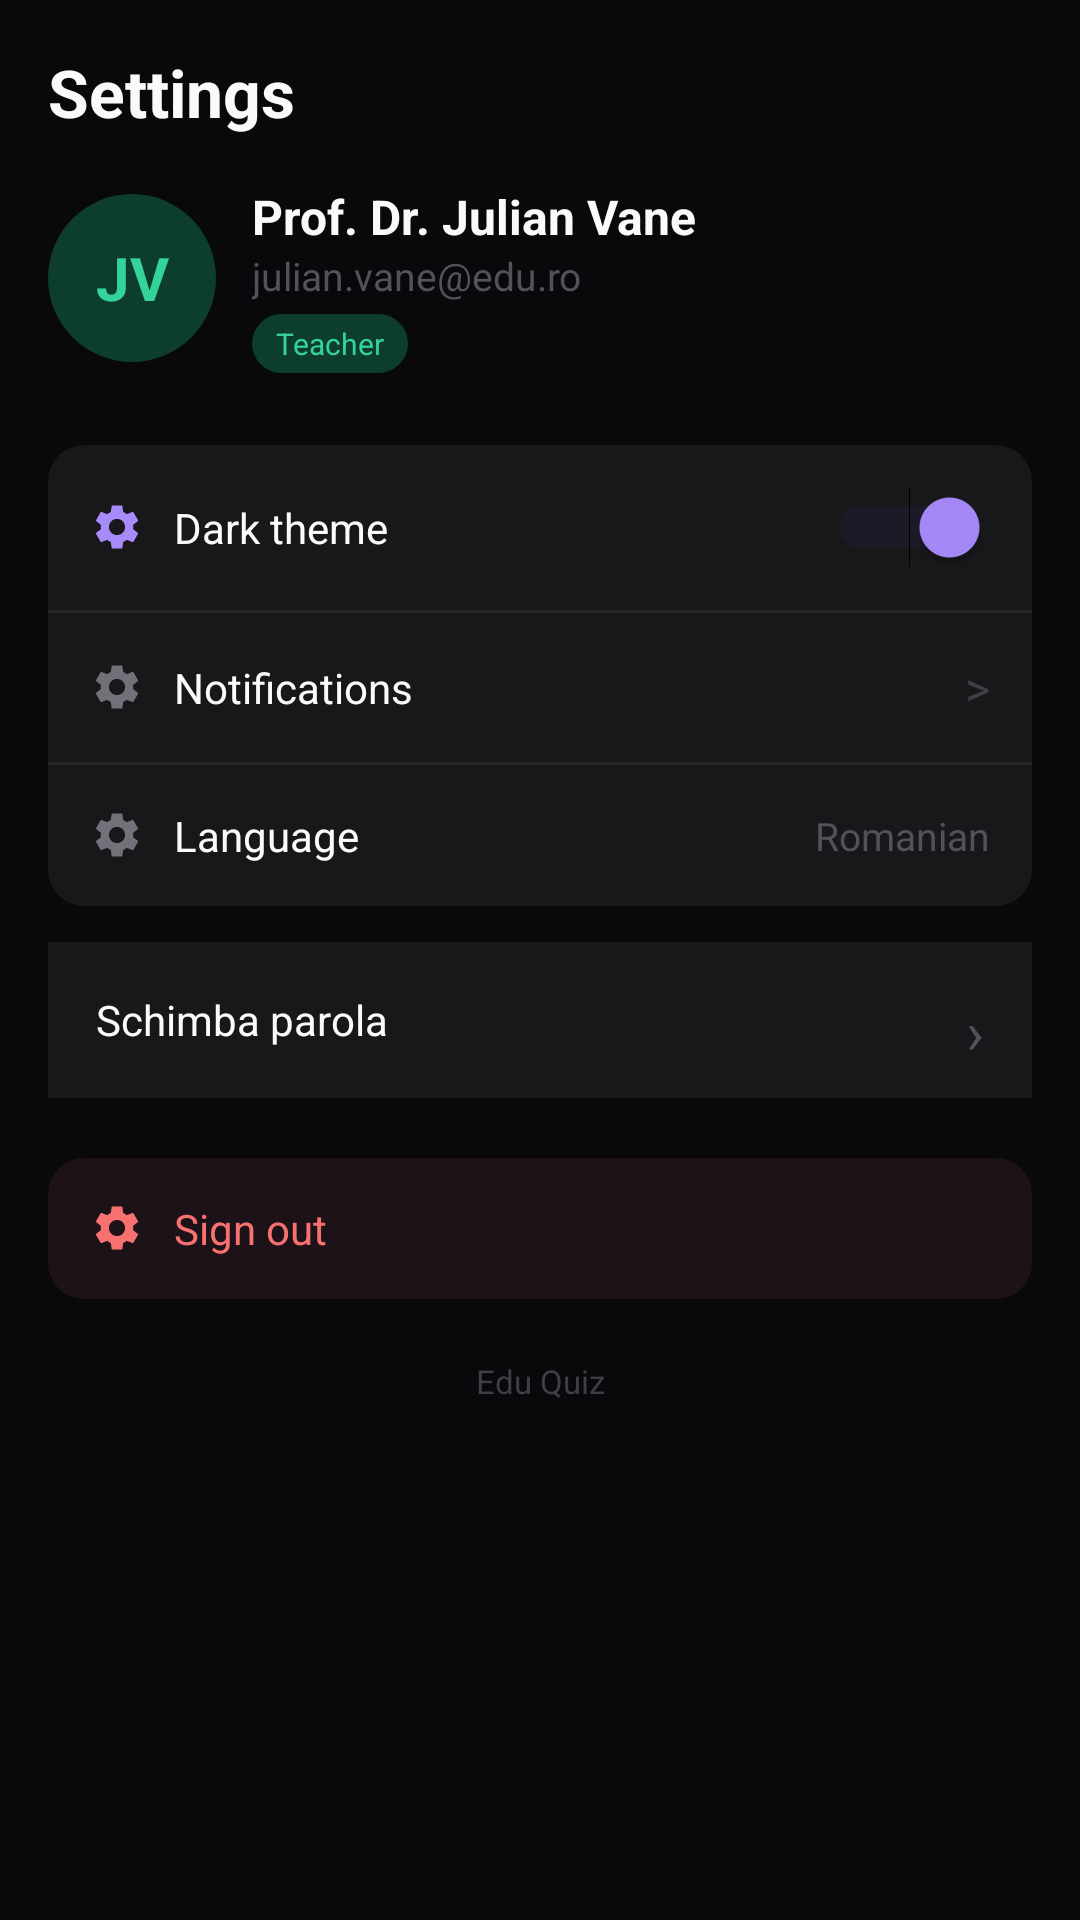

Where to tap for icons on this 1080*1920 app screen, as (x=x, y=y):
settings: (x=117, y=527), (x=117, y=687), (x=117, y=835), (x=117, y=1228)
